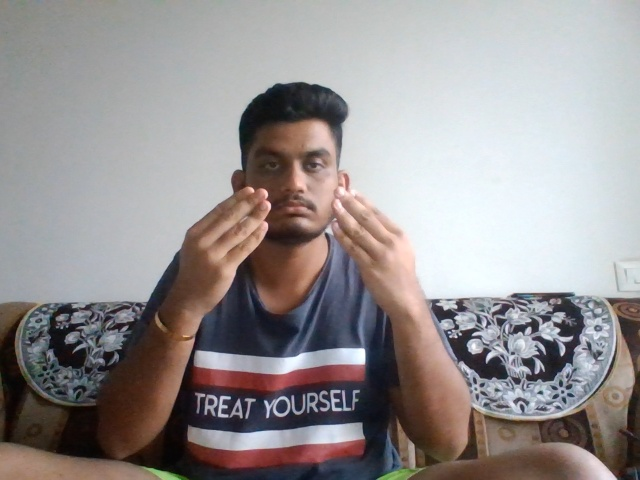Thank You: (170, 185, 431, 308)
